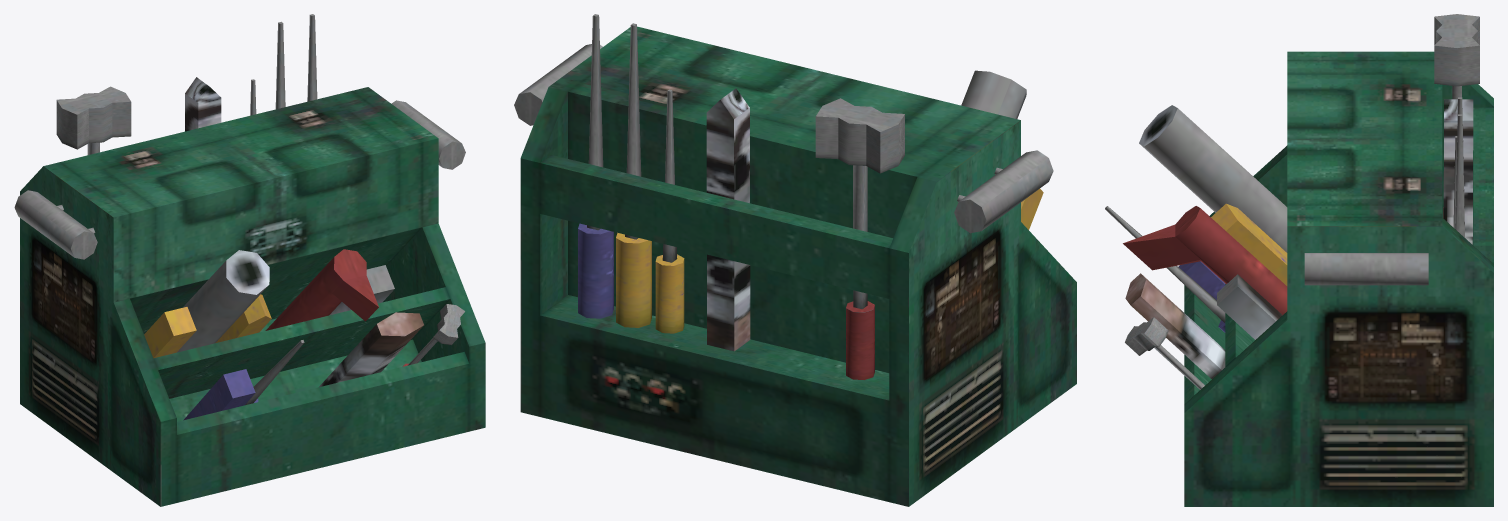
Rendered from eqp_tool_starship_toolkit_l0.fbx.
3 renders of one model, left to right at view 1: azimuth 30°, elevation 25°; view 2: azimuth 150°, elevation 25°; view 3: azimuth 270°, elevation 25°, orthographic. The views are drawn at different scales.
Parts seen in each view (by area): view 1: mesh_node; view 2: mesh_node; view 3: mesh_node.
Part boxes in pixels (x1,y1,x2,y2): mesh_node: (14, 14, 485, 506); mesh_node: (514, 14, 1076, 506); mesh_node: (1105, 14, 1493, 506).
Size of the model in its own units: 0.7299 by 0.5868 by 0.5649.
1 material, 1 textured.
